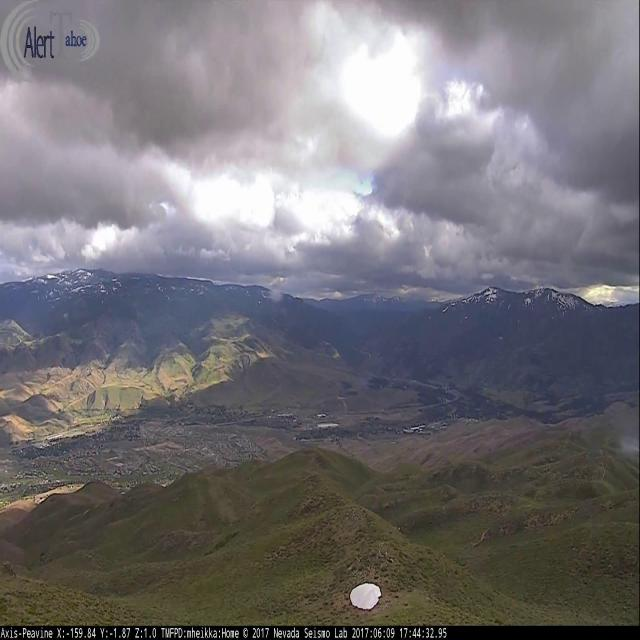smoke: (609, 412, 640, 456)
